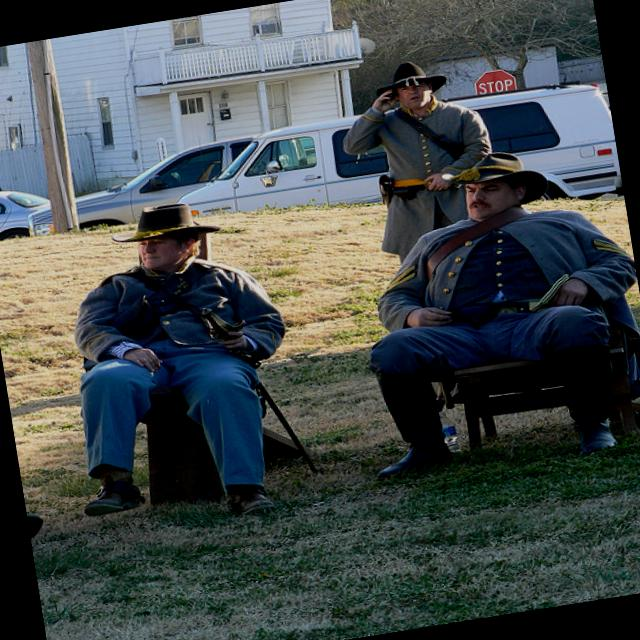Vehicle: (170, 73, 624, 264), (18, 127, 315, 241), (20, 134, 274, 239), (0, 179, 53, 244)
